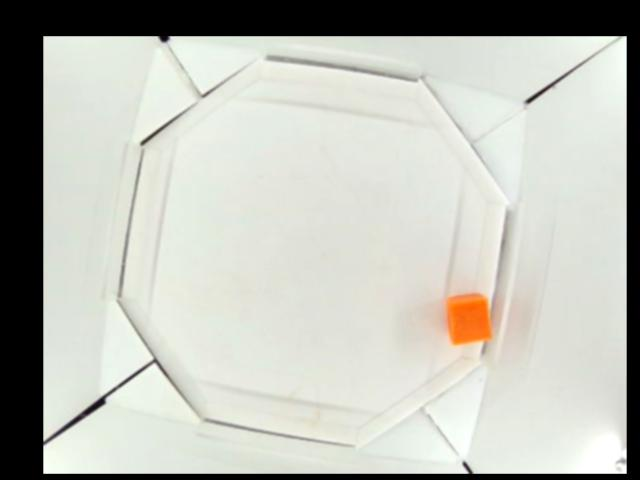Carrot: (444, 294, 495, 345)
